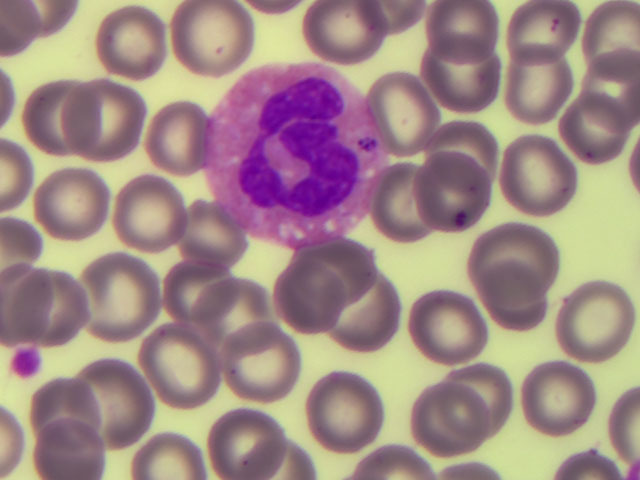Platelets: (8, 349, 43, 378)
RBC: (80, 260, 162, 339), (421, 33, 503, 111), (9, 267, 89, 345), (476, 226, 555, 304), (73, 366, 150, 444), (109, 172, 186, 250), (197, 281, 278, 355), (62, 87, 140, 162), (504, 137, 574, 219), (207, 408, 286, 480), (560, 283, 630, 364), (307, 375, 382, 449), (144, 327, 220, 399), (27, 83, 103, 154), (331, 272, 400, 350), (430, 119, 500, 194), (408, 391, 492, 453), (372, 70, 442, 143), (408, 294, 483, 362), (224, 327, 294, 399), (421, 156, 489, 230), (578, 51, 640, 132), (171, 1, 248, 66), (505, 46, 570, 123), (557, 94, 629, 162), (507, 1, 576, 71), (522, 362, 589, 432), (92, 3, 165, 67), (38, 173, 110, 237), (278, 264, 343, 334), (291, 245, 371, 301), (164, 263, 236, 324), (305, 1, 375, 62), (34, 424, 110, 480), (427, 1, 496, 62), (586, 4, 640, 81), (440, 364, 505, 427), (488, 264, 551, 328), (35, 383, 100, 444), (3, 267, 55, 341), (128, 434, 208, 480), (378, 167, 433, 232), (238, 435, 311, 480), (1, 216, 40, 286), (1, 140, 36, 212), (356, 1, 418, 37)
WBC: (208, 68, 378, 234)
